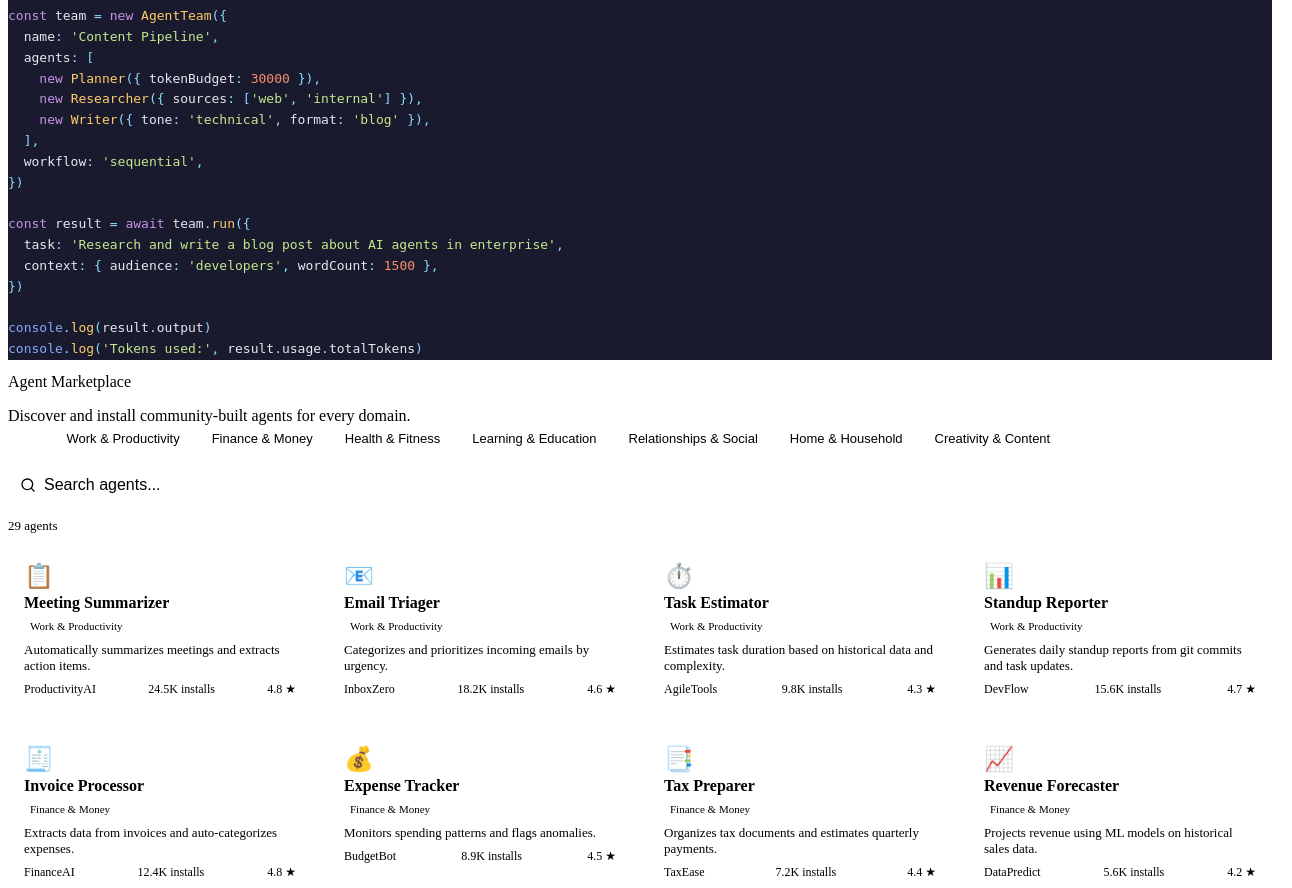
Test case: AgentToolkitPage › filters marketplace by domain
(page scrolled)
Note: Target the marketplace pill container specifically
Click the button "Finance & Money" at x=262, y=439, box [200,425,325,452]
(page scrolled)
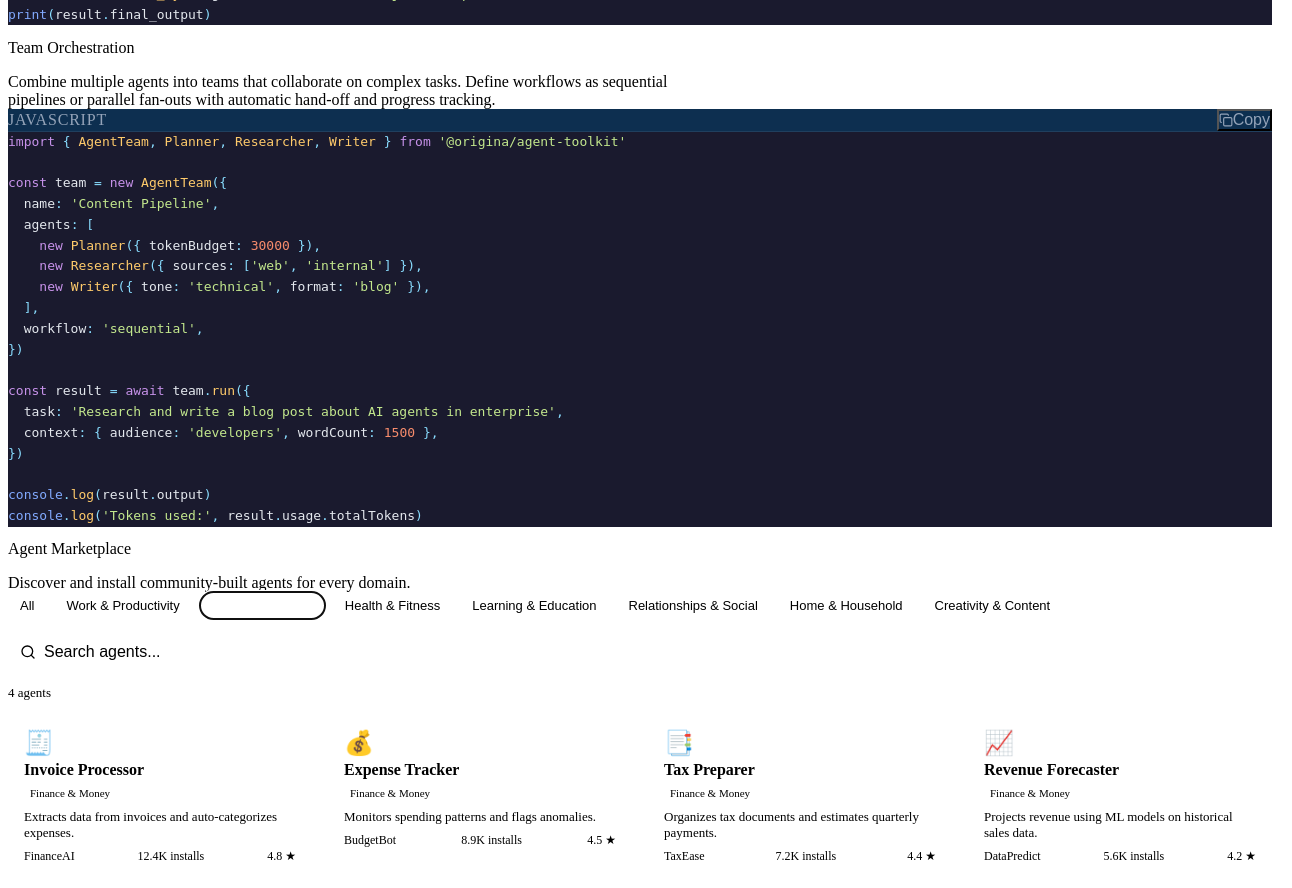
Expected: the heading "Invoice Processor" is shown, [24,761,144,778]
Expected: the heading "Meeting Summarizer" is gone
